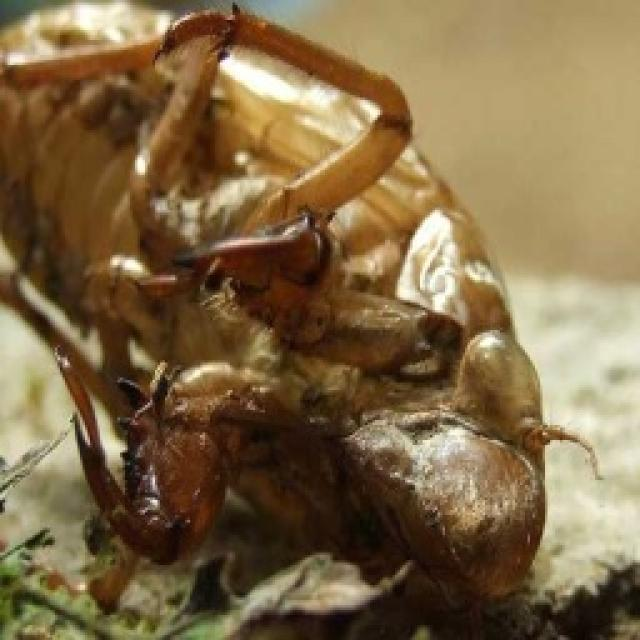cockroach: (3, 5, 601, 620)
